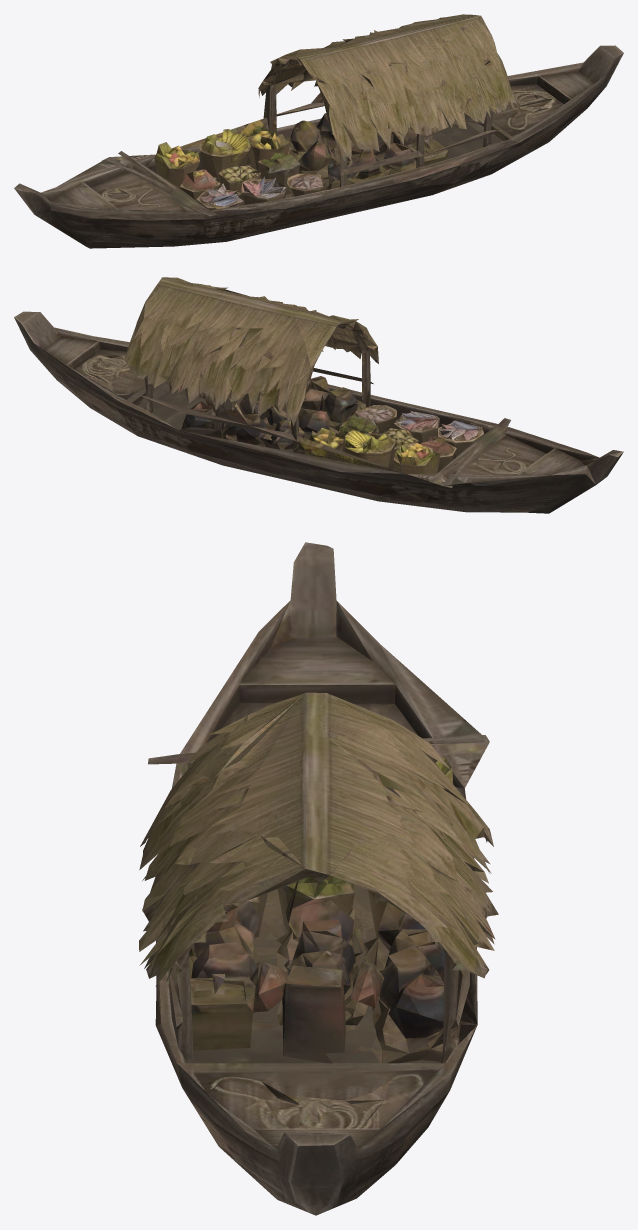
Rendered from trader-boat.glb.
3 renders of one model, top to bottom at view 1: azimuth 30°, elevation 25°; view 2: azimuth 150°, elevation 25°; view 3: azimuth 270°, elevation 25°, orthographic. The views are drawn at different scales.
Parts seen in each view (by area): view 1: output_unwrapped; view 2: output_unwrapped; view 3: output_unwrapped.
Part boxes in pixels (bbox=[...]): output_unwrapped: bbox=[14, 14, 623, 248]; output_unwrapped: bbox=[14, 277, 623, 513]; output_unwrapped: bbox=[139, 542, 498, 1215].
Size of the model in its own units: 12 by 2.69 by 3.1.
1 material, 1 textured.
